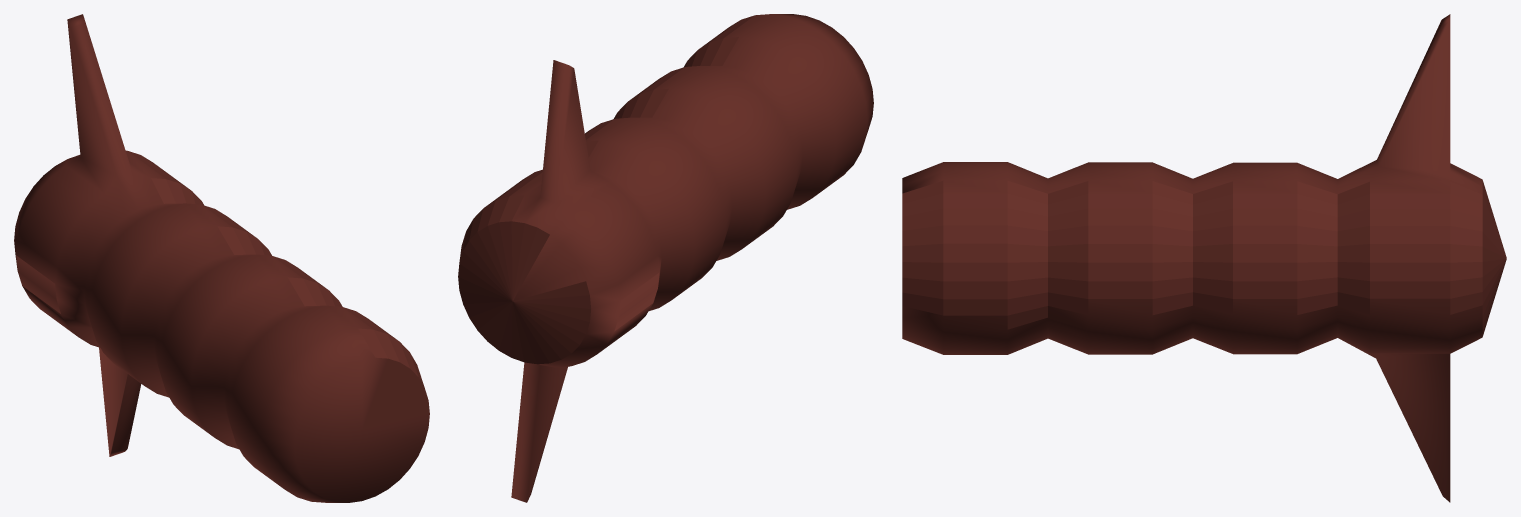
File: totem.fbx
3 renders of one model, left to right at view 1: azimuth 30°, elevation 25°; view 2: azimuth 150°, elevation 25°; view 3: azimuth 270°, elevation 25°, orthographic. The views are drawn at different scales.
Parts seen in each view (by area): view 1: Cylinder; view 2: Cylinder; view 3: Cylinder.
Part boxes in pixels (bbox=[...]): Cylinder: bbox=[14, 14, 429, 502]; Cylinder: bbox=[458, 14, 873, 502]; Cylinder: bbox=[902, 14, 1506, 502].
Bounding box in the file's own units: 2.4 × 6.35 × 7.51.
